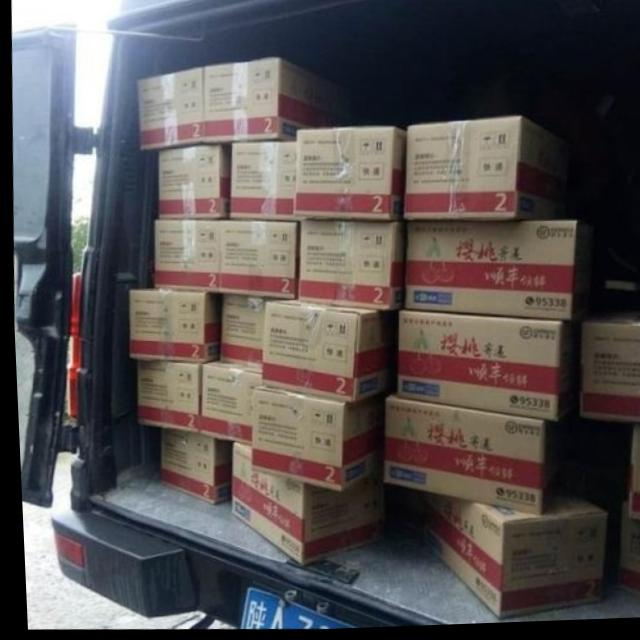box: (400, 471, 599, 621), (380, 387, 538, 516), (227, 444, 380, 567), (394, 316, 557, 423), (400, 223, 576, 322), (402, 120, 567, 224), (255, 299, 394, 404), (245, 389, 385, 493), (204, 60, 341, 143), (293, 130, 405, 223), (295, 225, 401, 312), (577, 314, 640, 426), (127, 287, 221, 362), (217, 223, 299, 301), (223, 144, 303, 222), (214, 297, 292, 369), (157, 145, 232, 219), (155, 428, 227, 505), (193, 361, 259, 444), (137, 70, 203, 147), (131, 359, 197, 433), (151, 221, 218, 292), (611, 482, 640, 603), (625, 427, 640, 526)
